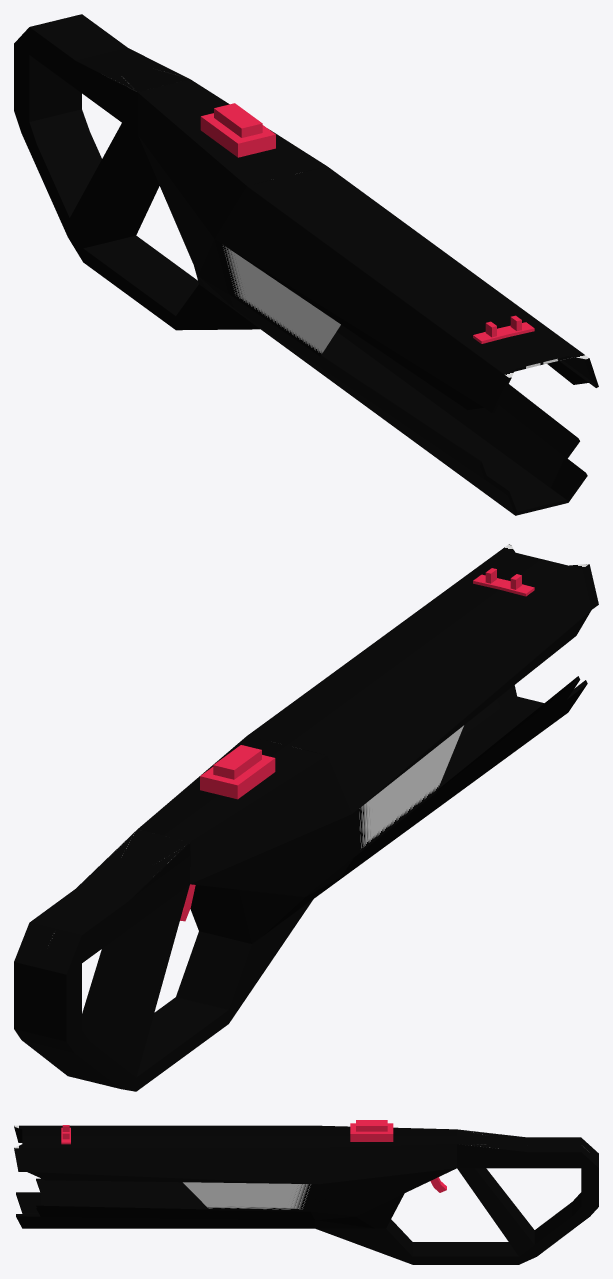
Rendered from gun.fbx.
3 renders of one model, top to bottom at view 1: azimuth 30°, elevation 25°; view 2: azimuth 150°, elevation 25°; view 3: azimuth 270°, elevation 25°, orthographic. The views are drawn at different scales.
Parts seen in each view (by area): view 1: Gun, Scope, Crosshair; view 2: Gun, Scope, Crosshair; view 3: Gun, Scope.
Part boxes in pixels (box(x1,y1,x2,y2)): Gun: box(14, 14, 598, 515); Scope: box(200, 103, 275, 157); Crosshair: box(473, 315, 534, 343); Gun: box(14, 544, 598, 1091); Scope: box(200, 745, 275, 799); Crosshair: box(473, 568, 534, 596); Gun: box(14, 1125, 598, 1264); Scope: box(350, 1120, 393, 1141).
Bounding box in the file's own units: 1029 × 1672 × 6595.
